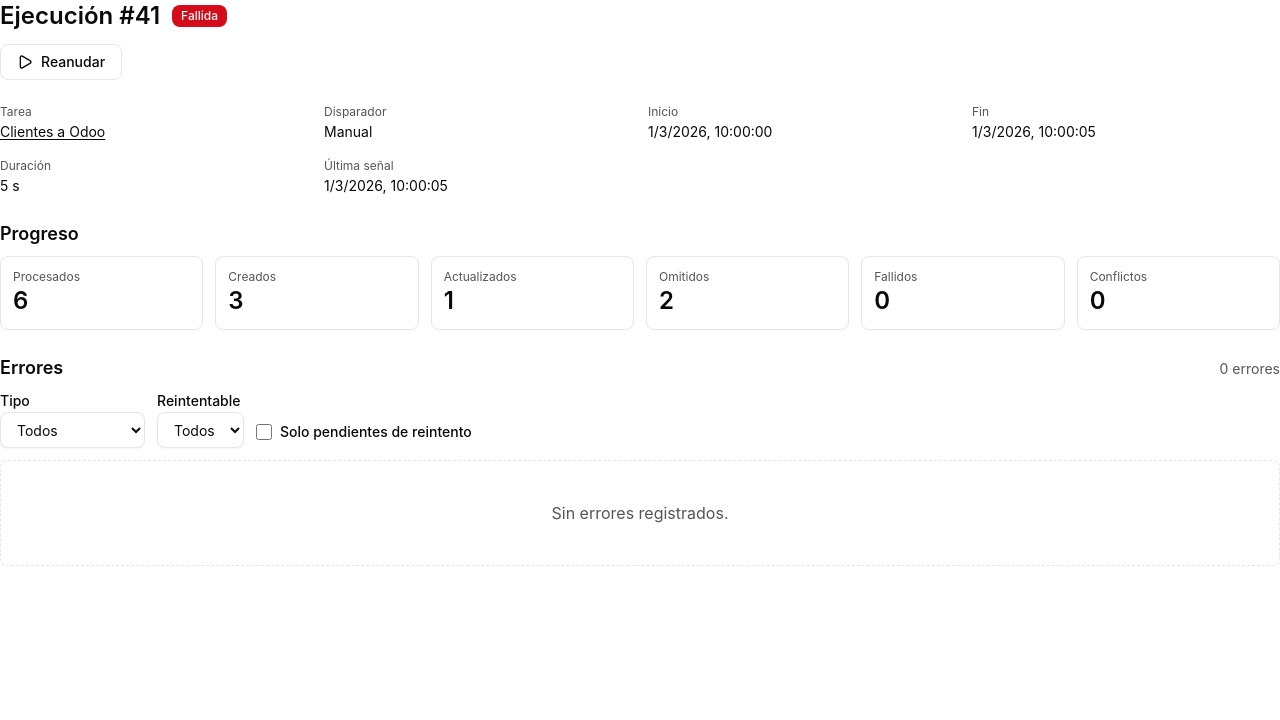
Test: RunDetailPage actions › resumes a failed run and links to it
Click the button "Reanudar". click: (61, 62)
box: [0,44,122,80]
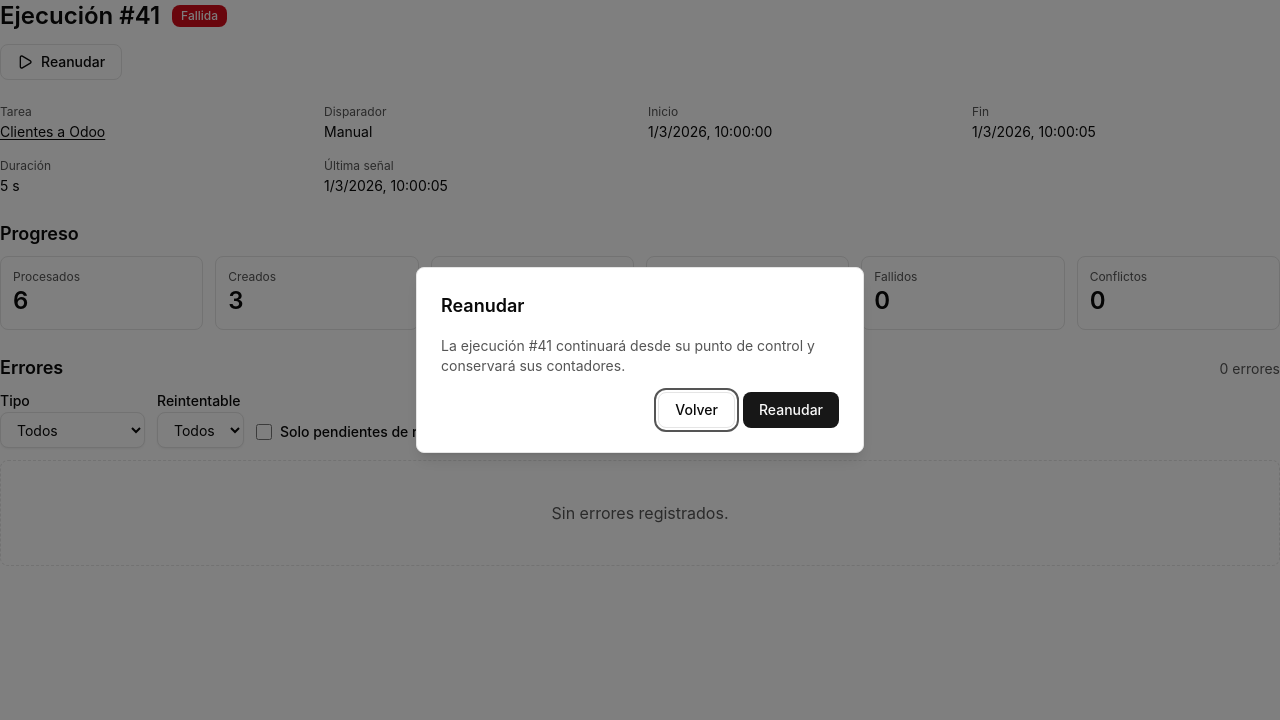
Click the button "Reanudar". click: (791, 410)
box: [743,392,839,428]
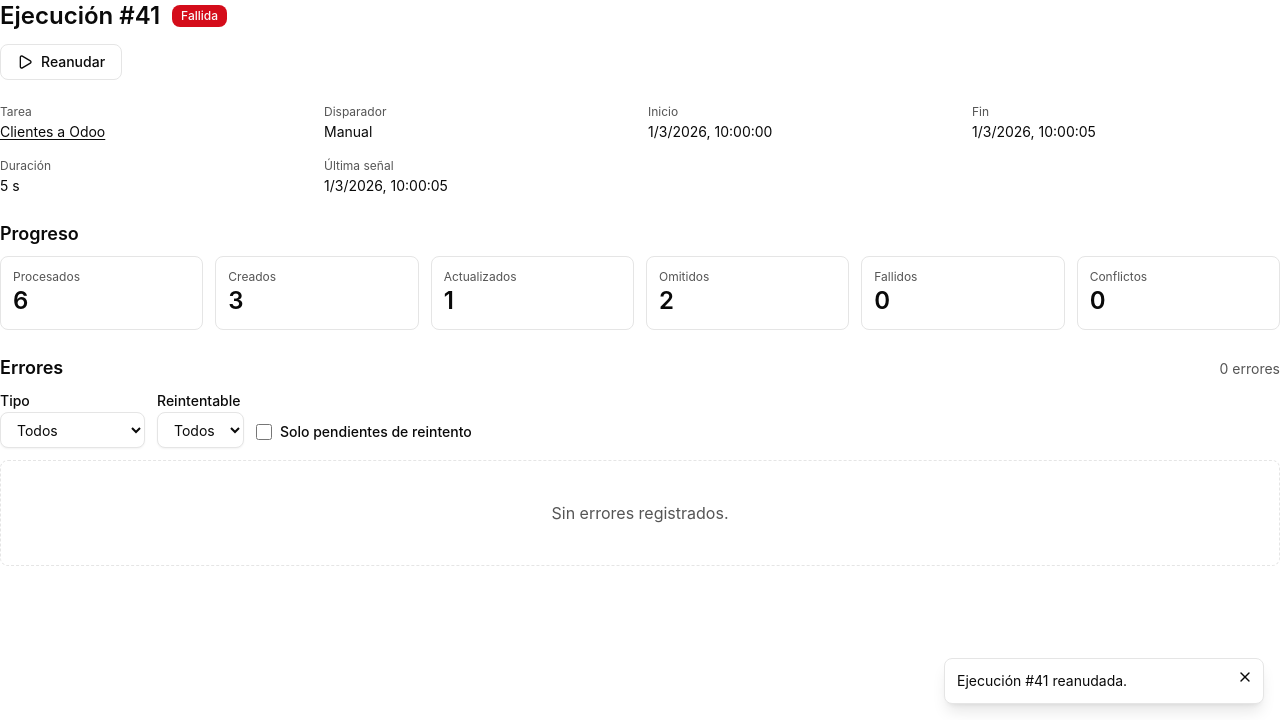
Check: the text "Ejecución #41 reanudada." is shown, box [957,672,1127,689]
